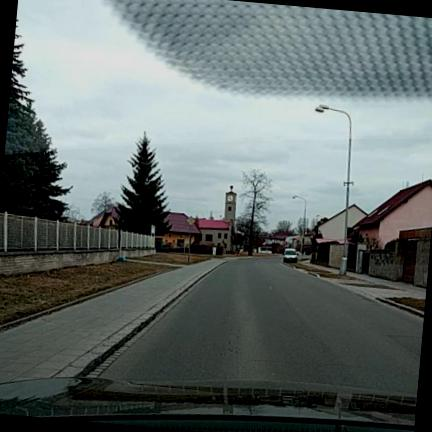Road: (101, 259, 423, 394)
